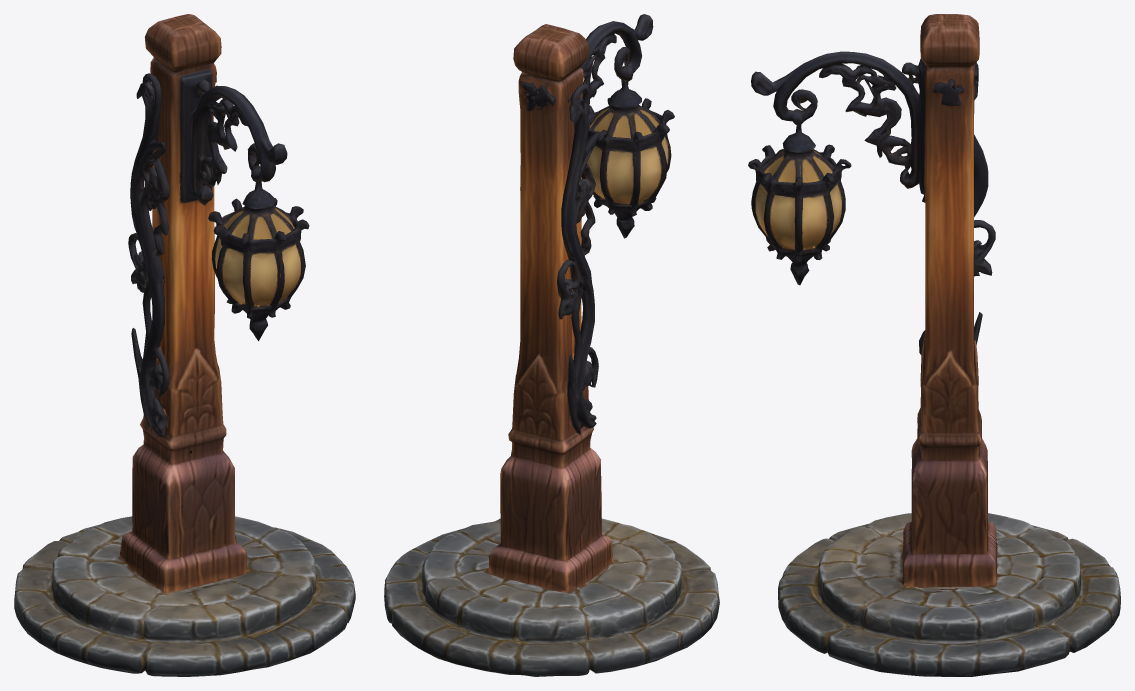
Rendered from env_street_lamp.glb.
The picture shows the model from 3 angles, left to right: view 1: azimuth 30°, elevation 25°; view 2: azimuth 150°, elevation 25°; view 3: azimuth 270°, elevation 25°; orthographic projection.
Visible parts, largest first — view 1: world; view 2: world; view 3: world.
Boxes of the visible parts, left/top/right/bottom form: world: left=14, top=14, right=355, bottom=676; world: left=384, top=14, right=719, bottom=676; world: left=748, top=14, right=1120, bottom=676.
Bounding box in the file's own units: 0.5351 × 1 × 0.5781.
Materials: 1 (1 with a texture image).
